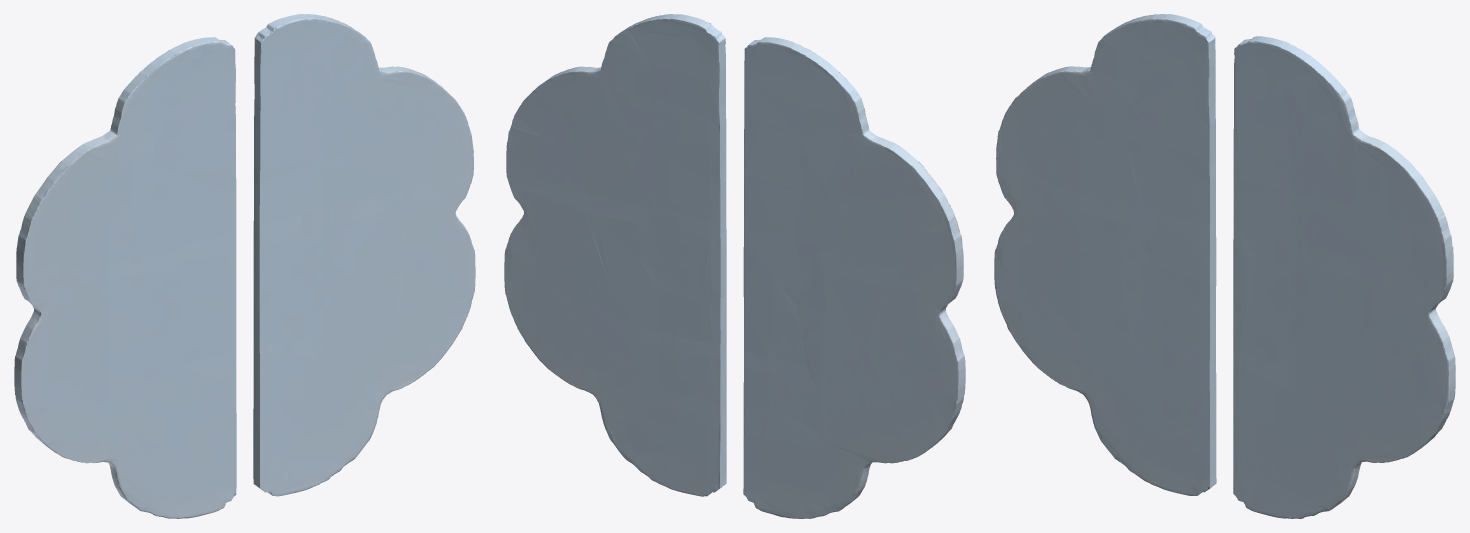
The model's file is brain.glb.
The picture shows the model from 3 angles, left to right: view 1: azimuth 30°, elevation 25°; view 2: azimuth 150°, elevation 25°; view 3: azimuth 330°, elevation 25°; orthographic projection.
Visible parts, largest first — view 1: geometry_0; view 2: geometry_0; view 3: geometry_0.
Boxes of the visible parts, left/top/right/bottom form: geometry_0: left=14, top=14, right=475, bottom=518; geometry_0: left=504, top=14, right=965, bottom=518; geometry_0: left=994, top=14, right=1455, bottom=518.
Bounding box in the file's own units: 0.9991 × 0.9928 × 0.0279.
1 material, 1 textured.
